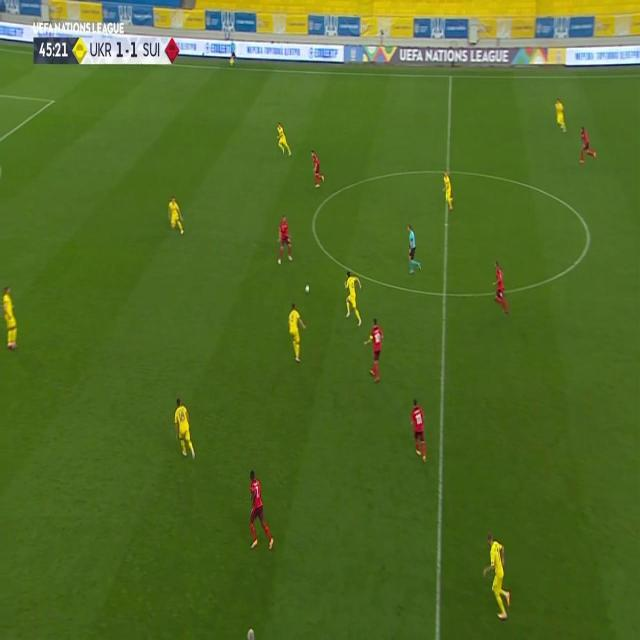ball: (304, 284, 310, 294)
player: (482, 530, 512, 618), (244, 468, 274, 552), (173, 397, 195, 459), (364, 316, 384, 382), (408, 398, 428, 462), (286, 301, 306, 363), (490, 259, 510, 317), (1, 286, 19, 350), (342, 270, 362, 326), (275, 214, 293, 266), (406, 223, 421, 274), (167, 196, 186, 236), (578, 124, 597, 164), (309, 148, 325, 188), (276, 120, 292, 156), (441, 170, 455, 210), (554, 97, 568, 132), (228, 37, 236, 67)
